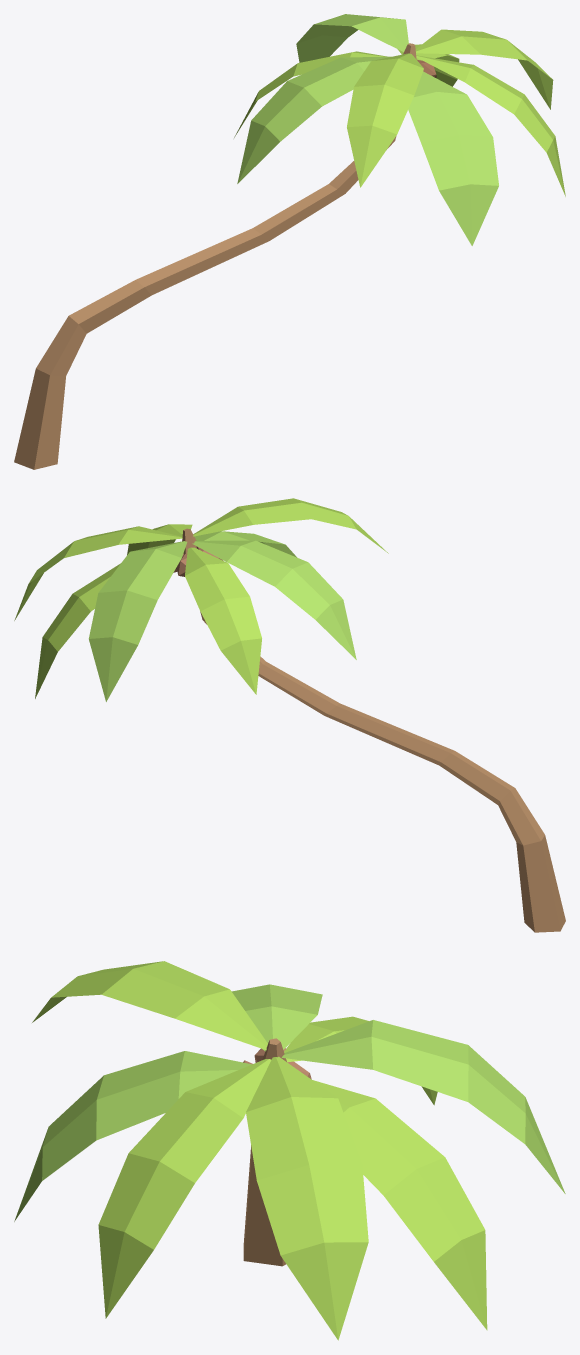
Rendered from Palm_Tree_Coconut_m_05_LOD.fbx.
3 views of the same model, one above another, from view 1: azimuth 30°, elevation 25°; view 2: azimuth 150°, elevation 25°; view 3: azimuth 270°, elevation 25° (orthographic). The views are drawn at different scales.
Visible parts, largest first — view 1: Palm_Tree_Coconut_m_05_LOD0; view 2: Palm_Tree_Coconut_m_05_LOD0; view 3: Palm_Tree_Coconut_m_05_LOD0.
Boxes of the visible parts, box(x1,y1,x2,y2) form: Palm_Tree_Coconut_m_05_LOD0: box(14, 14, 565, 469); Palm_Tree_Coconut_m_05_LOD0: box(14, 498, 565, 932); Palm_Tree_Coconut_m_05_LOD0: box(14, 961, 565, 1340).
Size of what is drawn, in the model's own units: 581 by 336 by 332.
